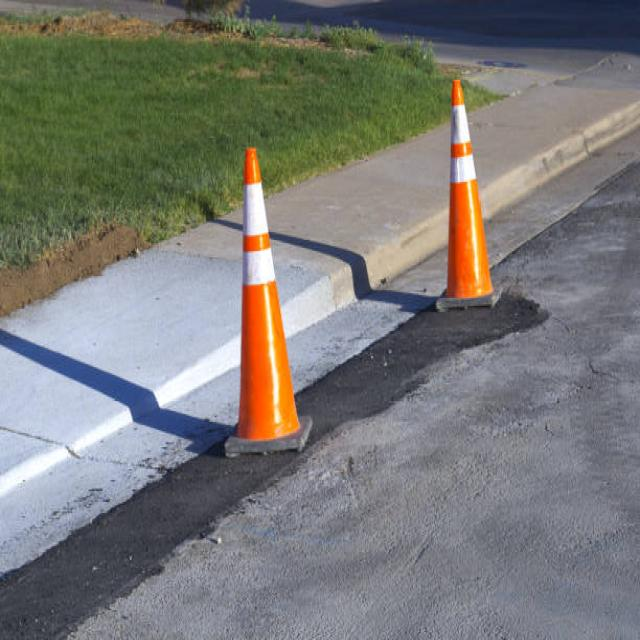Traffic Cone: (196, 129, 337, 467), (408, 63, 534, 331)
